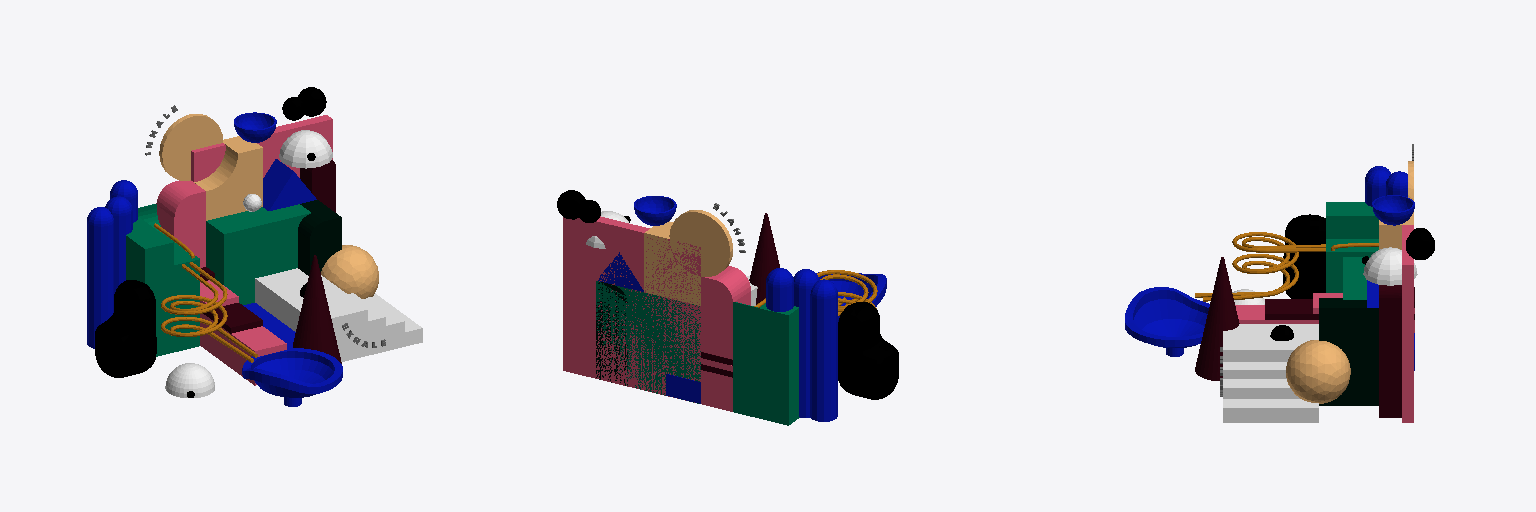
File: mural_animated_path.obj
3 views of the same model, side by side, from view 1: azimuth 30°, elevation 25°; view 2: azimuth 150°, elevation 25°; view 3: azimuth 270°, elevation 25° (orthographic).
Parts seen in each view (by area): view 1: stairsWhite_CUCurve.020_white, blockGreen_CUCurve.008_green.001, boxGrren_CUCurve.009_green.001, pillarsBlue_Sphere.013_blue, blobBlack_Cube.002_black_Splatter_pink.png, poolBlue_Cylinder_blue, blockBeige_CUCurve.007_beige, blockPink_CUCurve.004_pink_Splatter_pink.png, circleBeige_CUCurve.003_beige, barsGold.001_Circle_gold, ConeMaroon_Cone_maroon, wallPink_CUCurve.002_pink (+11 smaller); view 2: wallPink_CUCurve.002_pink, boxGrren_CUCurve.009_green.001, pillarsBlue_Sphere.013_blue, blockGreen_CUCurve.008_green.001, blobBlack_Cube.002_black_Splatter_pink.png, blockPink_CUCurve.004_pink_Splatter_pink.png, circleBeige_CUCurve.003_beige, blockBeige_CUCurve.007_beige, ConeMaroon_Cone_maroon, stairs_CUCurve.023_pink, bowlBlue_Sphere.005_blue, blockDGreen_CUCurve.013_green (+5 smaller); view 3: stairsWhite_CUCurve.020_white, blockDGreen_CUCurve.013_green, poolBlue_Cylinder_blue, SphereBeige_Sphere.001_beige, boxGrren_CUCurve.009_green.001, blockMaroon_CUCurve.005_maroon, blobBlack_Cube.002_black_Splatter_pink.png, ConeMaroon_Cone_maroon, barsGold.001_Circle_gold, wallPink_CUCurve.002_pink, eyeball1_Sphere.008_white, pillarsBlue_Sphere.013_blue (+6 smaller).
Part boxes in pixels (x1,y1,x2,y2): stairsWhite_CUCurve.020_white: (255, 268, 422, 361); blockGreen_CUCurve.008_green.001: (206, 204, 310, 304); boxGrren_CUCurve.009_green.001: (126, 204, 199, 356); pillarsBlue_Sphere.013_blue: (87, 180, 137, 348); blobBlack_Cube.002_black_Splatter_pink.png: (95, 280, 156, 377); poolBlue_Cylinder_blue: (242, 348, 342, 406); blockBeige_CUCurve.007_beige: (191, 136, 262, 220); blockPink_CUCurve.004_pink_Splatter_pink.png: (156, 180, 205, 267); circleBeige_CUCurve.003_beige: (159, 114, 222, 180); barsGold.001_Circle_gold: (161, 262, 257, 362); ConeMaroon_Cone_maroon: (293, 255, 341, 363); wallPink_CUCurve.002_pink: (191, 115, 332, 181); wallPink_CUCurve.002_pink: (563, 216, 700, 402); boxGrren_CUCurve.009_green.001: (733, 302, 799, 425); pillarsBlue_Sphere.013_blue: (766, 268, 837, 421); blockGreen_CUCurve.008_green.001: (596, 281, 700, 403); blobBlack_Cube.002_black_Splatter_pink.png: (838, 302, 898, 399); blockPink_CUCurve.004_pink_Splatter_pink.png: (701, 266, 750, 359); circleBeige_CUCurve.003_beige: (669, 210, 732, 276); blockBeige_CUCurve.007_beige: (644, 221, 700, 305); ConeMaroon_Cone_maroon: (749, 213, 779, 304); stairs_CUCurve.023_pink: (701, 358, 732, 411); bowlBlue_Sphere.005_blue: (634, 196, 676, 225); blockDGreen_CUCurve.013_green: (596, 282, 627, 385); stairsWhite_CUCurve.020_white: (1223, 324, 1318, 422); blockDGreen_CUCurve.013_green: (1319, 298, 1378, 405); poolBlue_Cylinder_blue: (1125, 287, 1209, 356); SphereBeige_Sphere.001_beige: (1286, 340, 1350, 403); boxGrren_CUCurve.009_green.001: (1326, 202, 1378, 292); blockMaroon_CUCurve.005_maroon: (1379, 285, 1401, 417); blobBlack_Cube.002_black_Splatter_pink.png: (1283, 214, 1325, 298); ConeMaroon_Cone_maroon: (1195, 257, 1239, 380); barsGold.001_Circle_gold: (1195, 232, 1325, 301); wallPink_CUCurve.002_pink: (1402, 225, 1413, 422); eyeball1_Sphere.008_white: (1363, 247, 1417, 285); pillarsBlue_Sphere.013_blue: (1365, 166, 1407, 206).
Size of the model in its own units: 2.67 by 1.93 by 2.59.